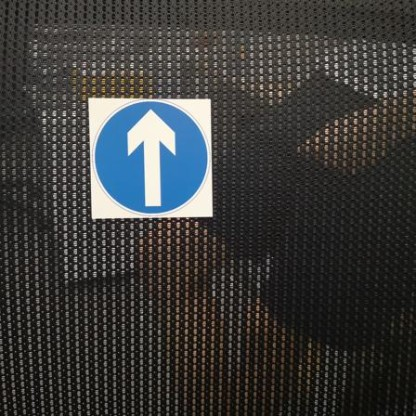forward: (85, 96, 213, 223)
